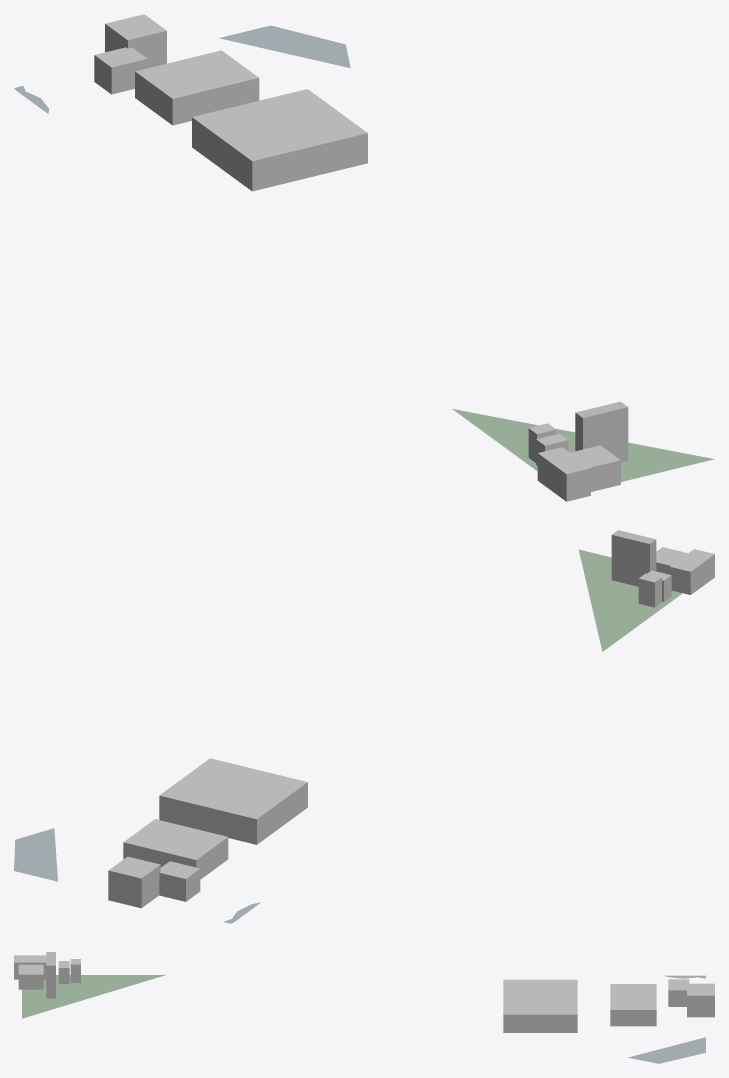
Rendered from 139_81_mid.glb.
3 views of the same model, one above another, from view 1: azimuth 30°, elevation 25°; view 2: azimuth 150°, elevation 25°; view 3: azimuth 270°, elevation 25° (orthographic). The views are drawn at different scales.
Bounding box in the file's own units: 158 × 27.46 × 512.
